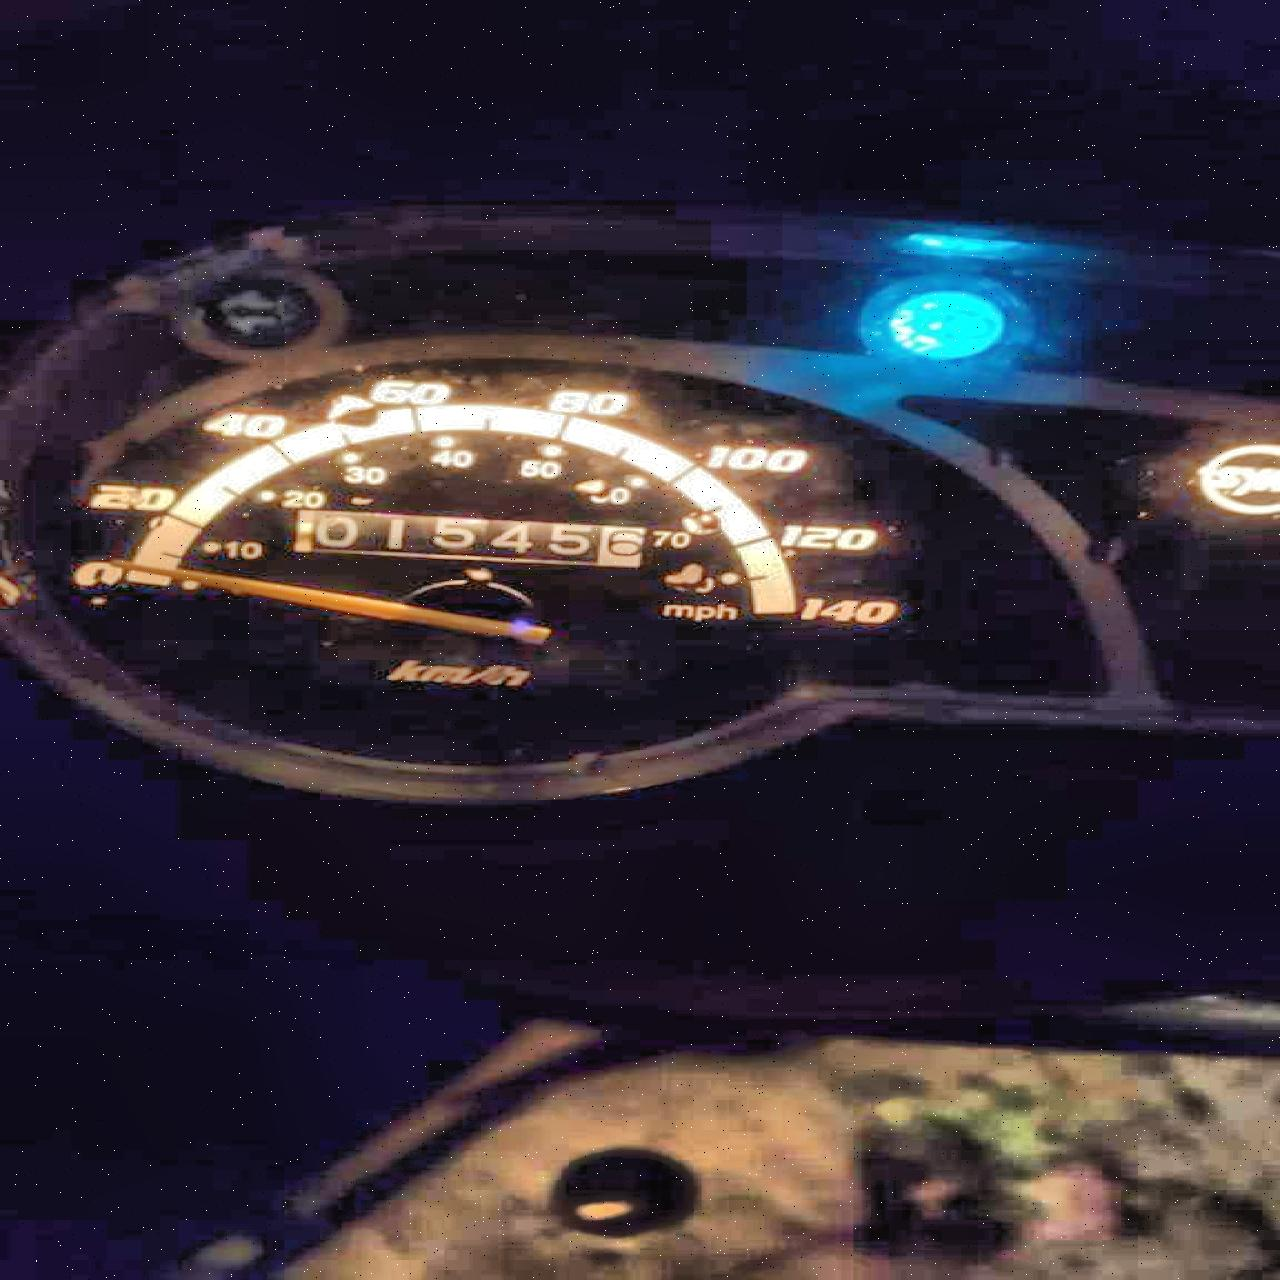0: (312, 511, 358, 549)
1: (380, 513, 407, 551)
4: (491, 522, 536, 552)
5: (429, 513, 481, 549), (549, 518, 591, 553)
6: (605, 524, 640, 558)
odometer: (286, 508, 647, 570)
